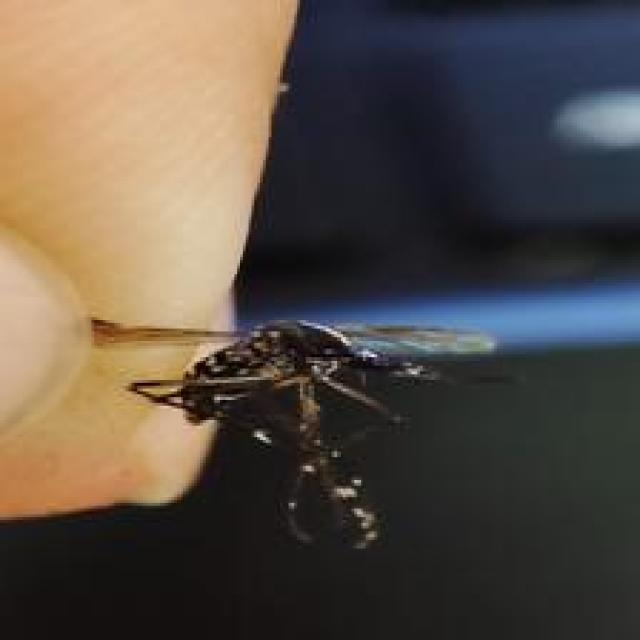Aedes albopictus: (96, 314, 507, 552)
